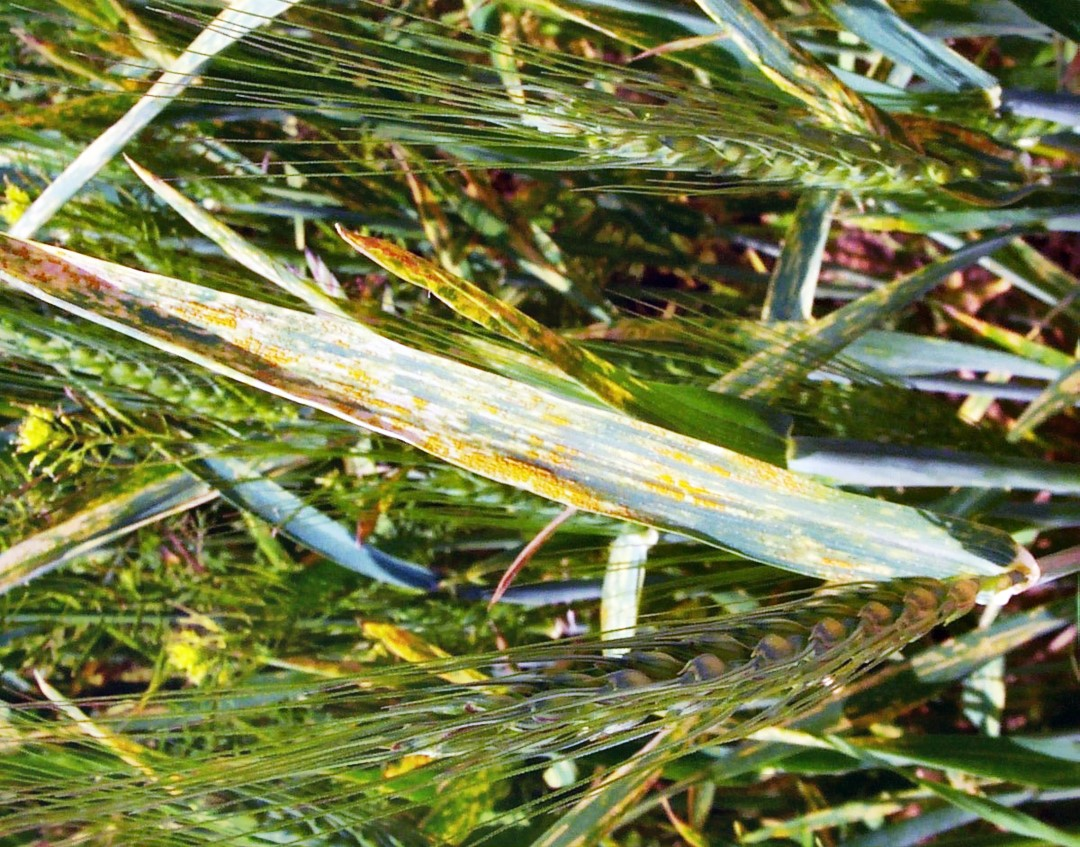Leaf Rust: (174, 296, 743, 542)
